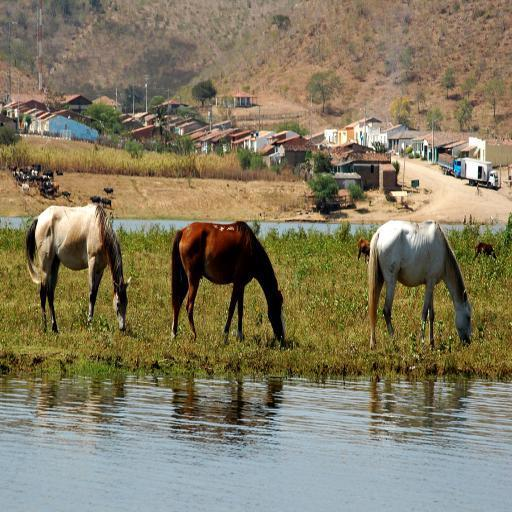horse: (172, 220, 285, 348), (24, 200, 130, 334), (366, 218, 472, 345)
